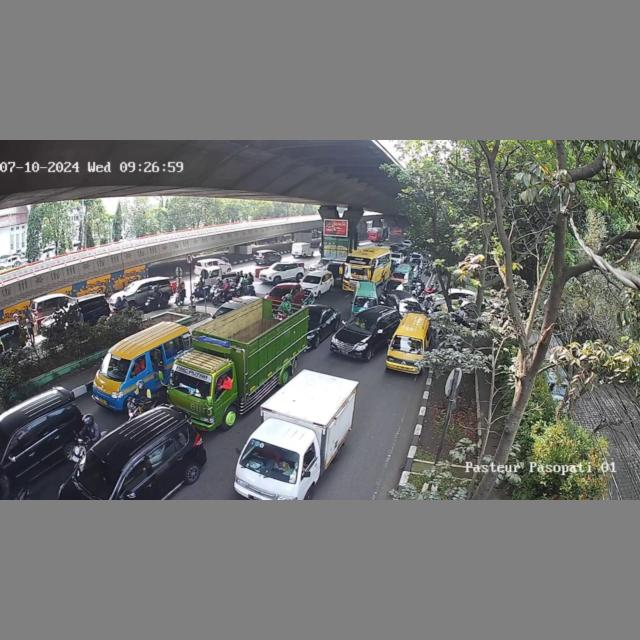windshield: (240, 440, 302, 483), (73, 452, 126, 494), (169, 362, 226, 399), (97, 351, 133, 380), (392, 334, 422, 355), (348, 315, 378, 333), (352, 297, 378, 307), (267, 288, 289, 298), (302, 275, 322, 283)
